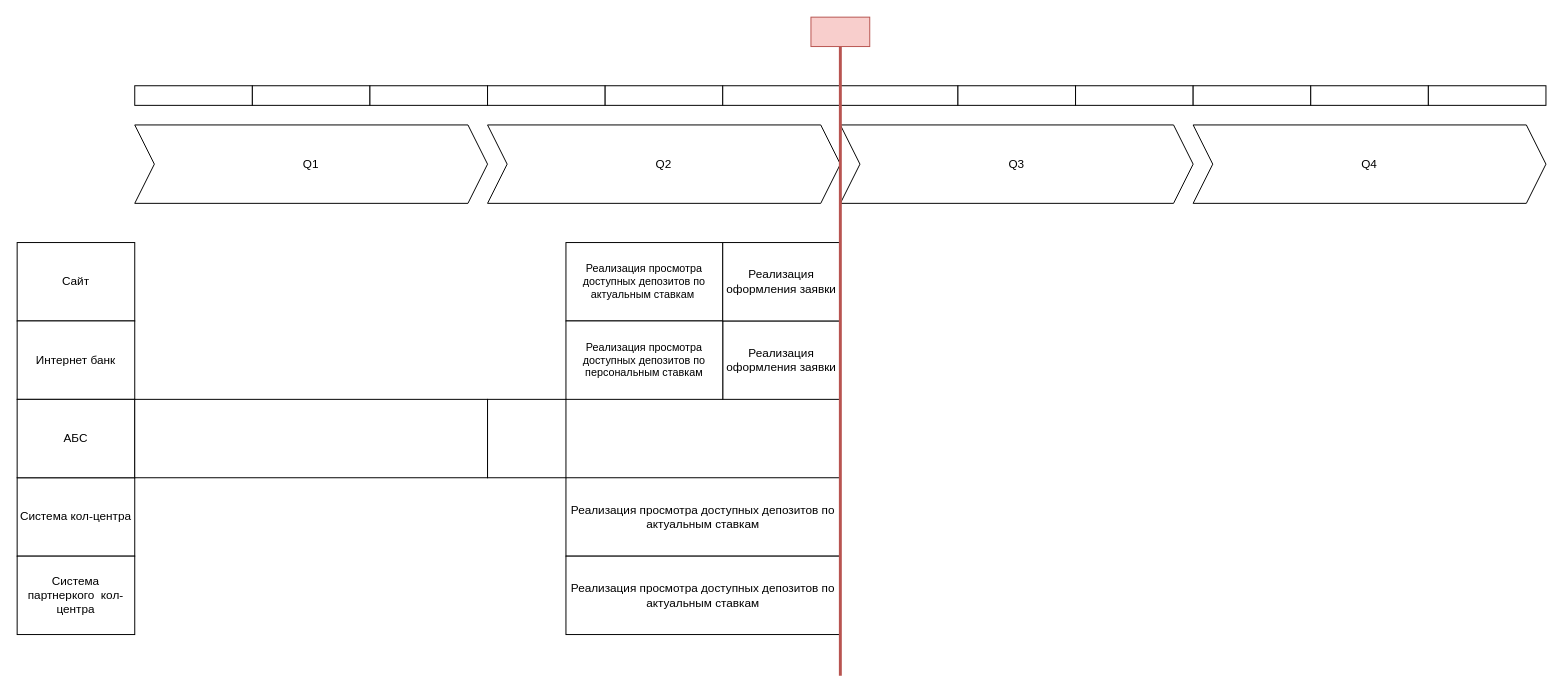
Some shapes in this 1563 by 695 pixel diagram are drawn without their labels. The box of each missing label's shape, as (x1, y1, x2, y2) in pixels:
MVP: (810, 16, 870, 47)
Реализация ADR 1: (134, 398, 488, 478)
Реализация ADR 2: (487, 398, 566, 478)
